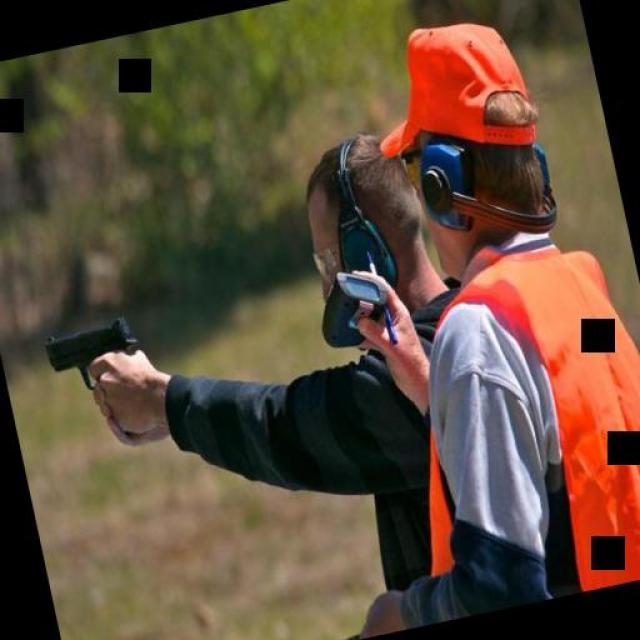gun: (35, 309, 147, 405)
